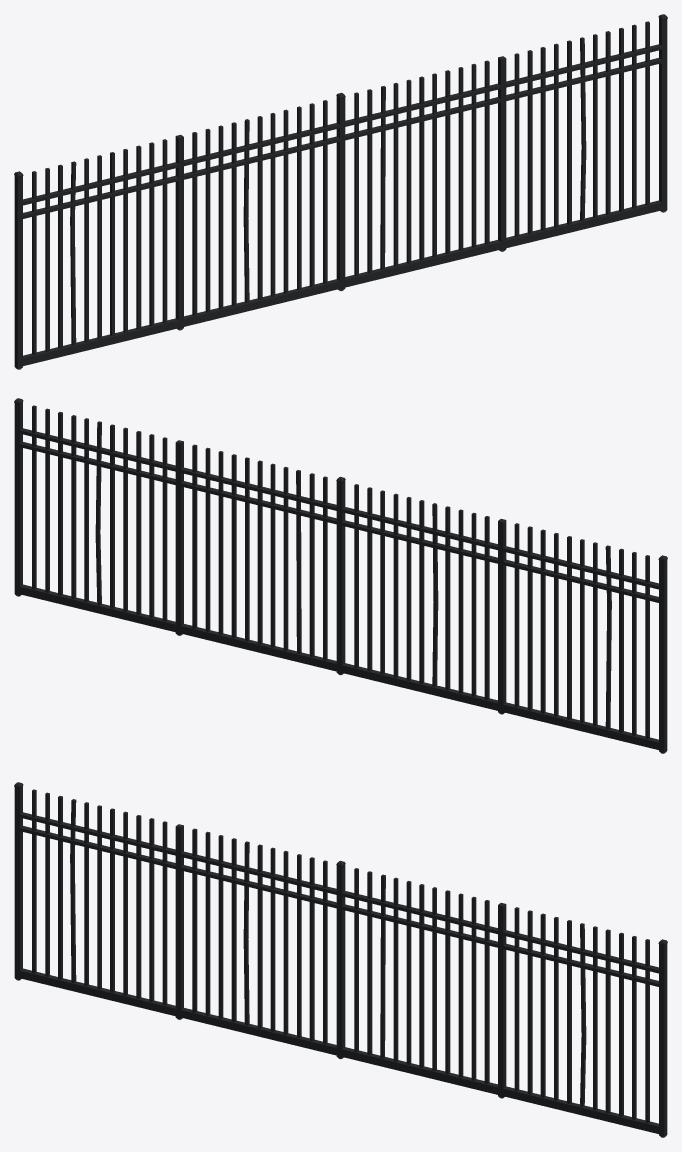
The model's file is SM_Bld_Fence_Gate_02.fbx.
3 views of the same model, one above another, from view 1: azimuth 30°, elevation 25°; view 2: azimuth 150°, elevation 25°; view 3: azimuth 330°, elevation 25° (orthographic).
Parts seen in each view (by area): view 1: SM_Bld_Fence_Gate_02; view 2: SM_Bld_Fence_Gate_02; view 3: SM_Bld_Fence_Gate_02.
Part boxes in pixels (x1,y1,x2,y2): SM_Bld_Fence_Gate_02: [14, 14, 667, 369]; SM_Bld_Fence_Gate_02: [14, 398, 667, 753]; SM_Bld_Fence_Gate_02: [14, 782, 667, 1137].
Bounding box in the file's own units: 1009 × 291 × 9.36.
